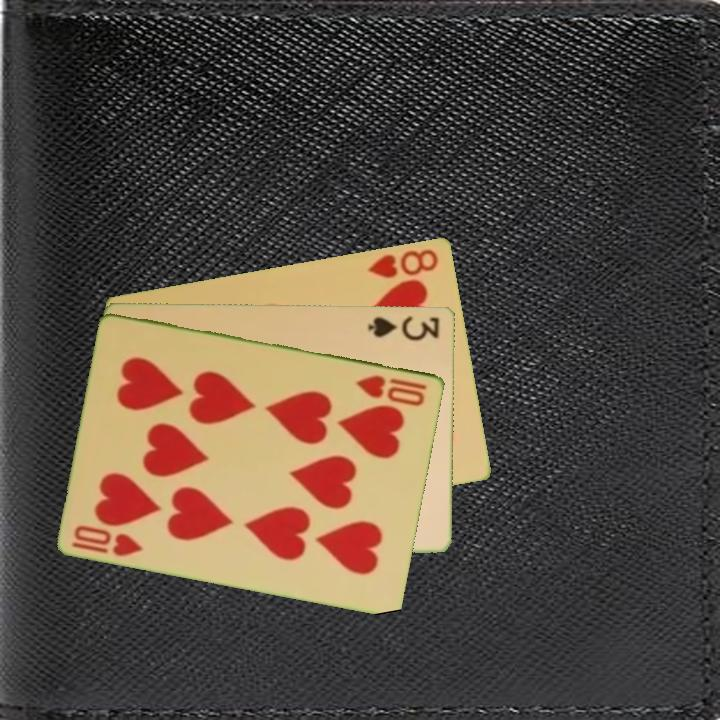10h: (68, 521, 146, 559), (353, 371, 430, 409)
3s: (364, 311, 443, 344)
8h: (364, 245, 442, 281)
